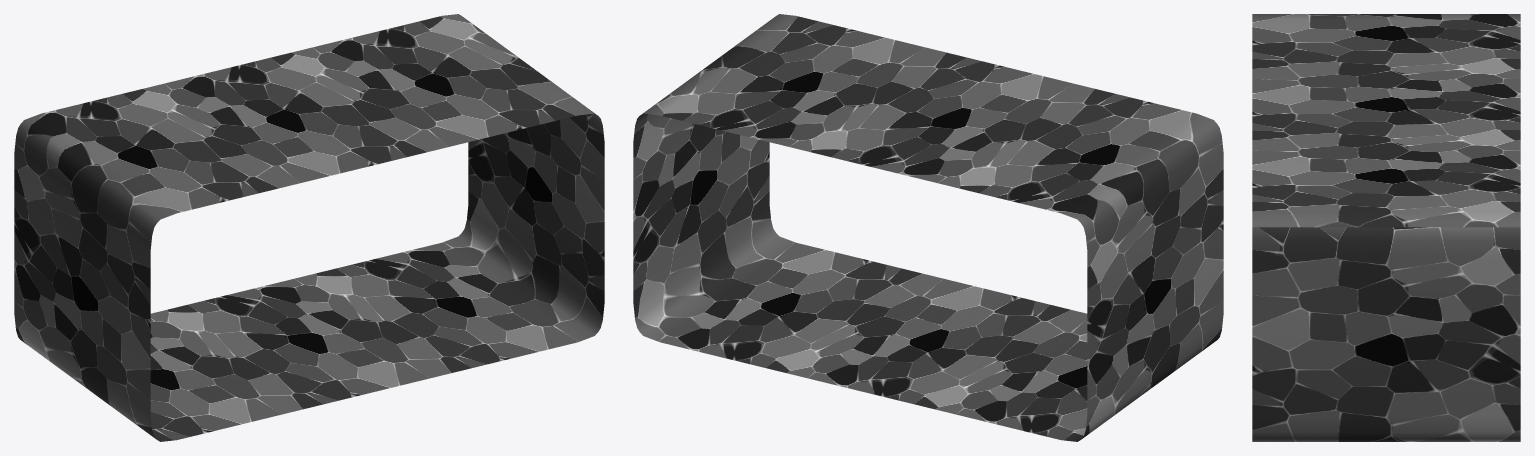
The picture shows the model from 3 angles, left to right: view 1: azimuth 30°, elevation 25°; view 2: azimuth 150°, elevation 25°; view 3: azimuth 270°, elevation 25°; orthographic projection.
Parts seen in each view (by area): view 1: 立方體; view 2: 立方體; view 3: 立方體.
Boxes of the visible parts, left/top/right/bottom form: 立方體: left=14, top=14, right=604, bottom=441; 立方體: left=633, top=14, right=1223, bottom=441; 立方體: left=1252, top=14, right=1520, bottom=441.
Size of the model in its own units: 3.85 by 2 by 1.84.
